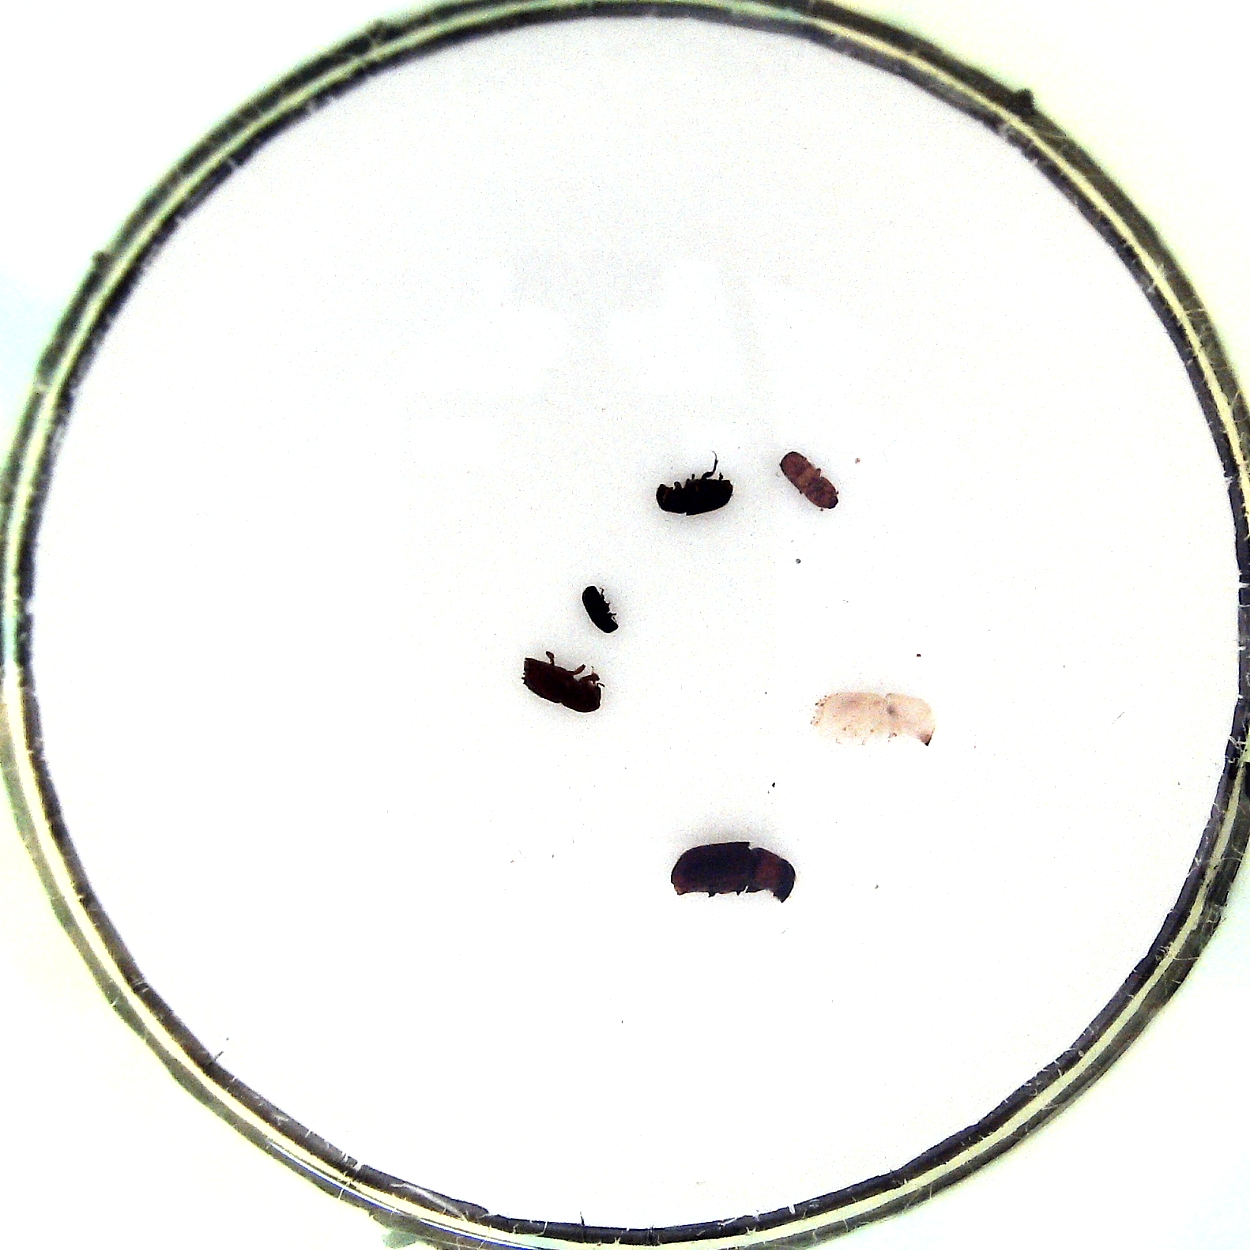Boerner: (801, 687, 942, 751)
Leconte: (662, 841, 801, 908)
Linnaeus: (519, 646, 611, 713)
acuminatus: (775, 451, 842, 513)
armandi: (654, 454, 736, 522)
coleoptera: (578, 582, 619, 633)
